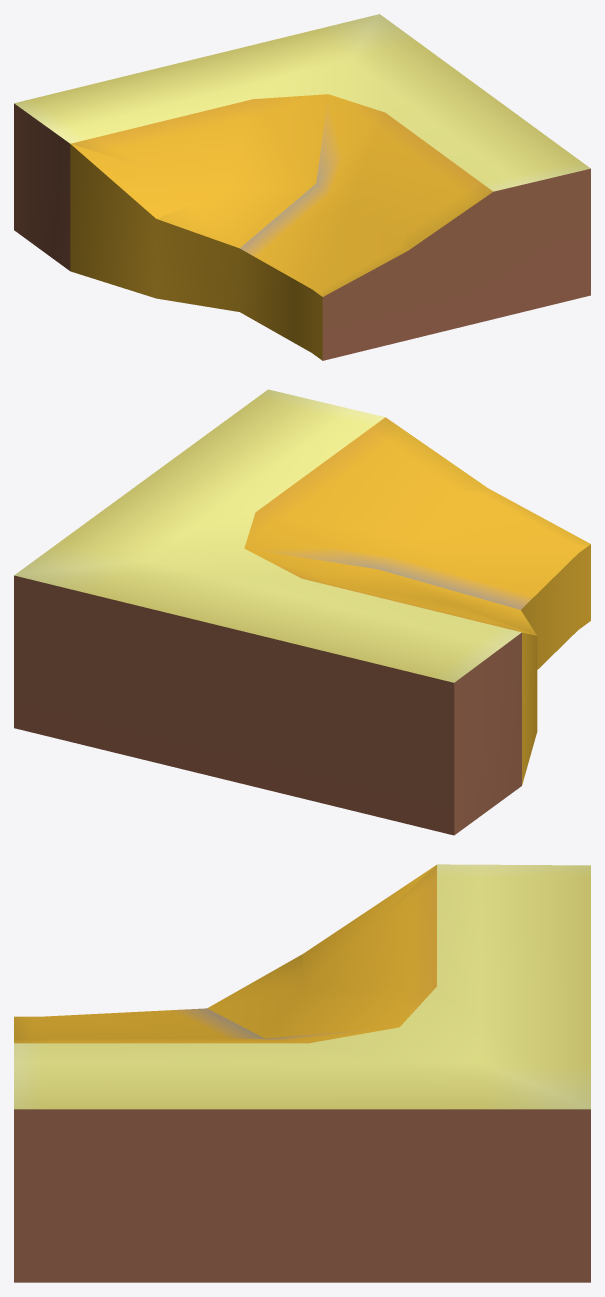
Rendered from Shore.SliceConcave.A.Vert.Desert.glb.
3 renders of one model, top to bottom at view 1: azimuth 30°, elevation 25°; view 2: azimuth 150°, elevation 25°; view 3: azimuth 270°, elevation 25°, orthographic. The views are drawn at different scales.
Visible parts, largest first — view 1: Shore.SliceConcave.A.Vert.Desert; view 2: Shore.SliceConcave.A.Vert.Desert; view 3: Shore.SliceConcave.A.Vert.Desert.
Part boxes in pixels (<box>): Shore.SliceConcave.A.Vert.Desert: <box>14,14,590,360</box>; Shore.SliceConcave.A.Vert.Desert: <box>14,389,590,835</box>; Shore.SliceConcave.A.Vert.Desert: <box>14,864,590,1282</box>.
Bounding box in the file's own units: 3 × 1 × 3.
Materials: 1 (1 with a texture image).
